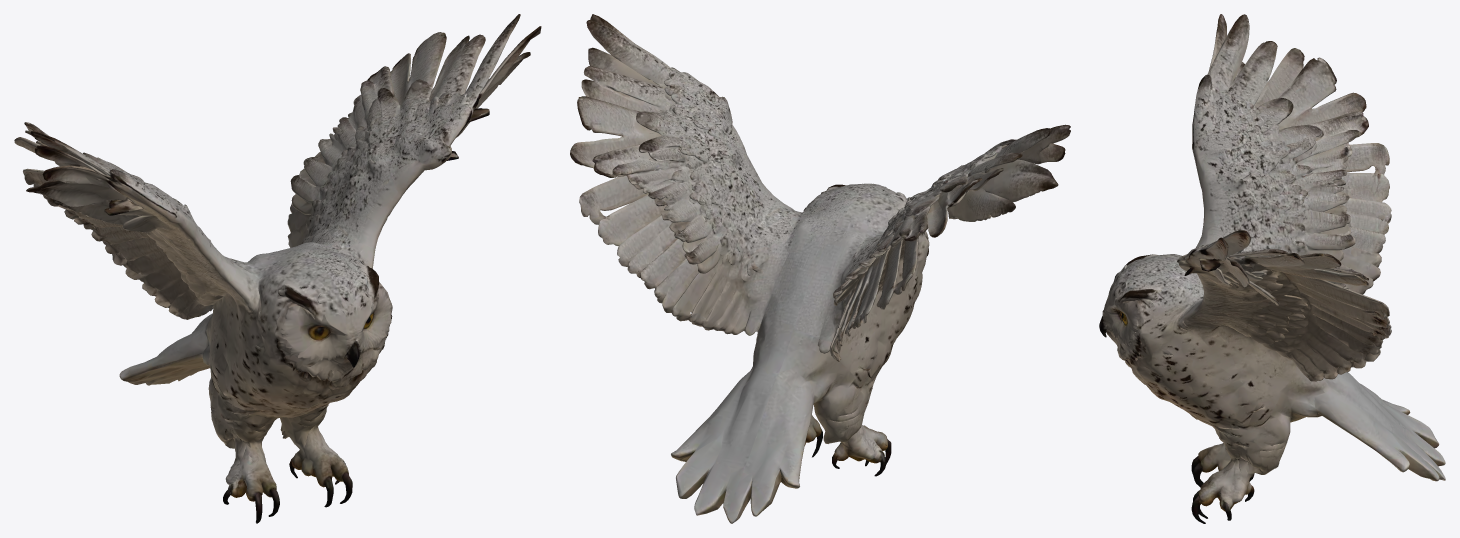
File: snowy-owl.glb
3 views of the same model, side by side, from view 1: azimuth 30°, elevation 25°; view 2: azimuth 150°, elevation 25°; view 3: azimuth 270°, elevation 25° (orthographic). The views are drawn at different scales.
Parts seen in each view (by area): view 1: tripo_node_ac352e23_tripo_mat_ac352e23_0; view 2: tripo_node_ac352e23_tripo_mat_ac352e23_0; view 3: tripo_node_ac352e23_tripo_mat_ac352e23_0.
Part boxes in pixels (bbox=[...]): tripo_node_ac352e23_tripo_mat_ac352e23_0: bbox=[14, 14, 541, 523]; tripo_node_ac352e23_tripo_mat_ac352e23_0: bbox=[570, 14, 1070, 523]; tripo_node_ac352e23_tripo_mat_ac352e23_0: bbox=[1099, 14, 1445, 523].
Size of the model in its own units: 0.98 by 0.7903 by 0.6444.
Materials: 1 (1 with a texture image).
